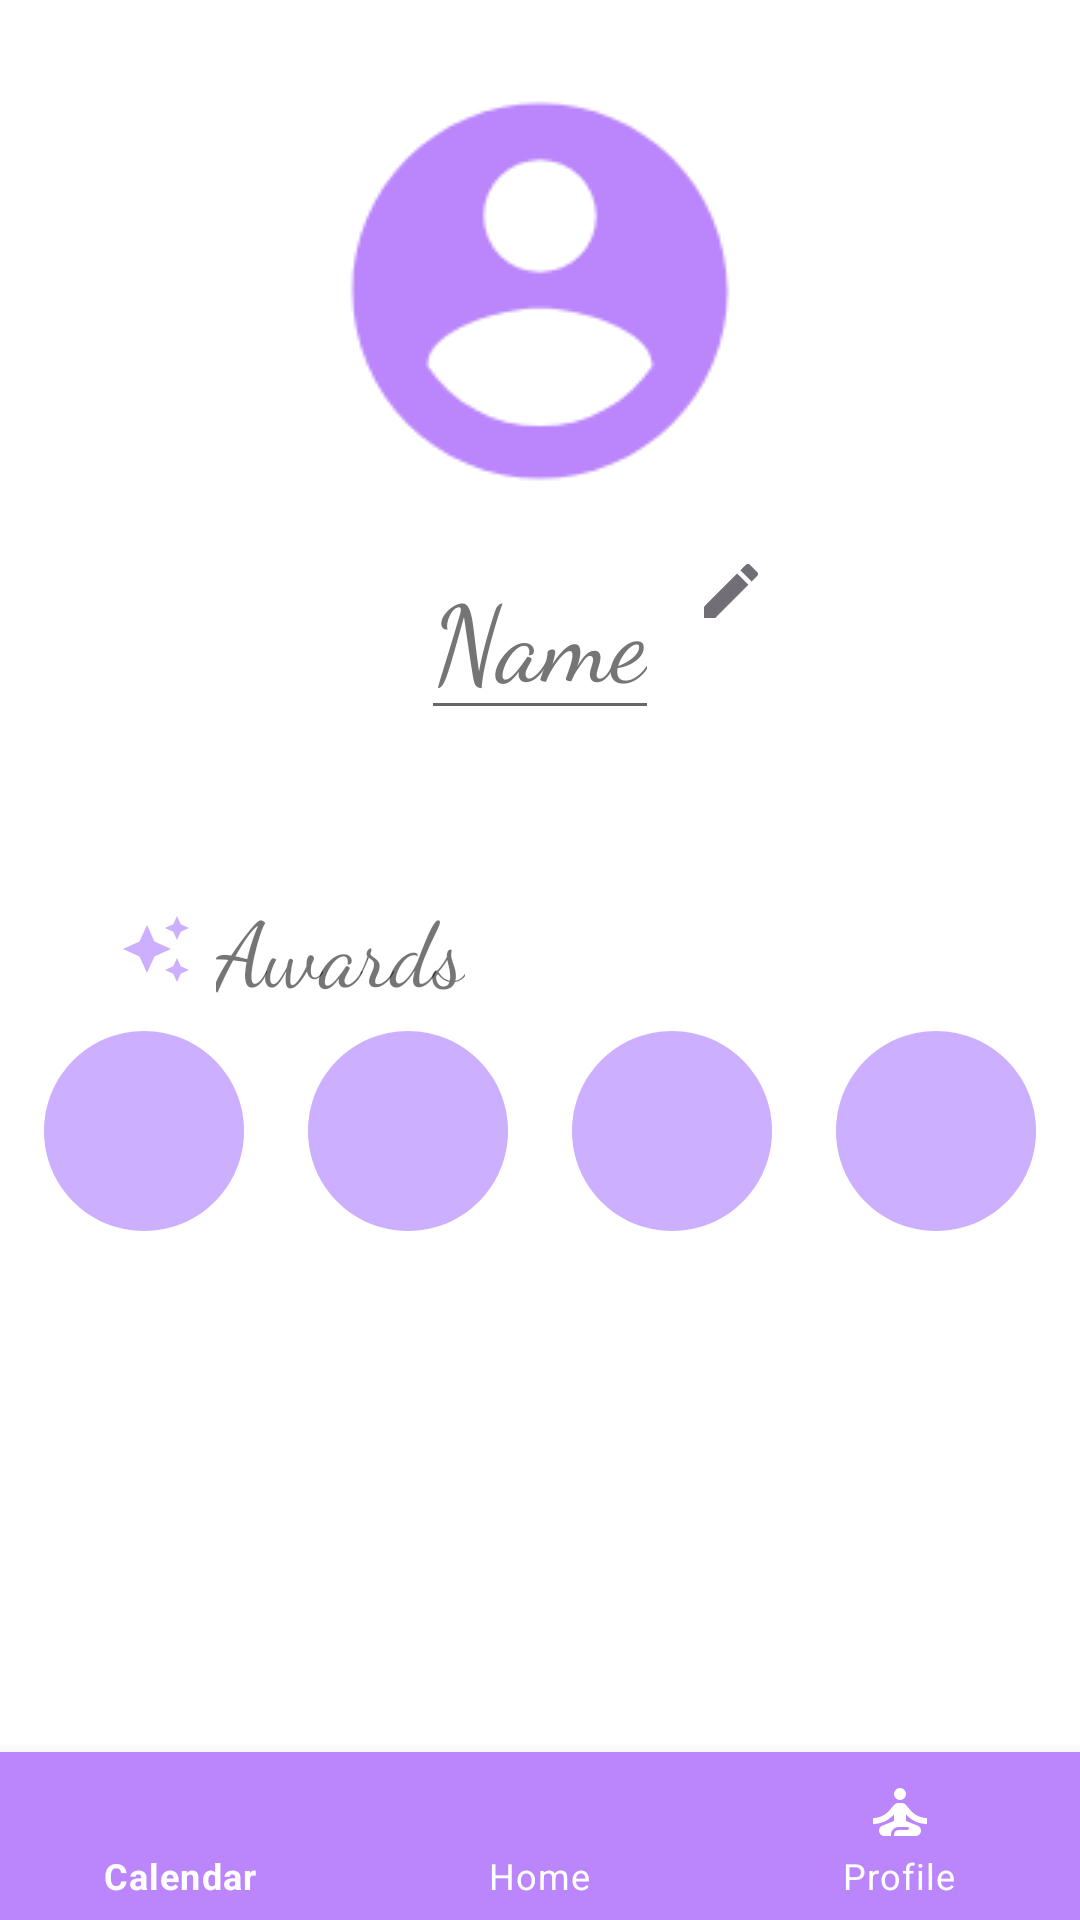

Where to tap for icons on this 1080×1920 app screen, as (x=x, y=y):
auto awesome: (x=156, y=949)
edit: (x=731, y=591)
